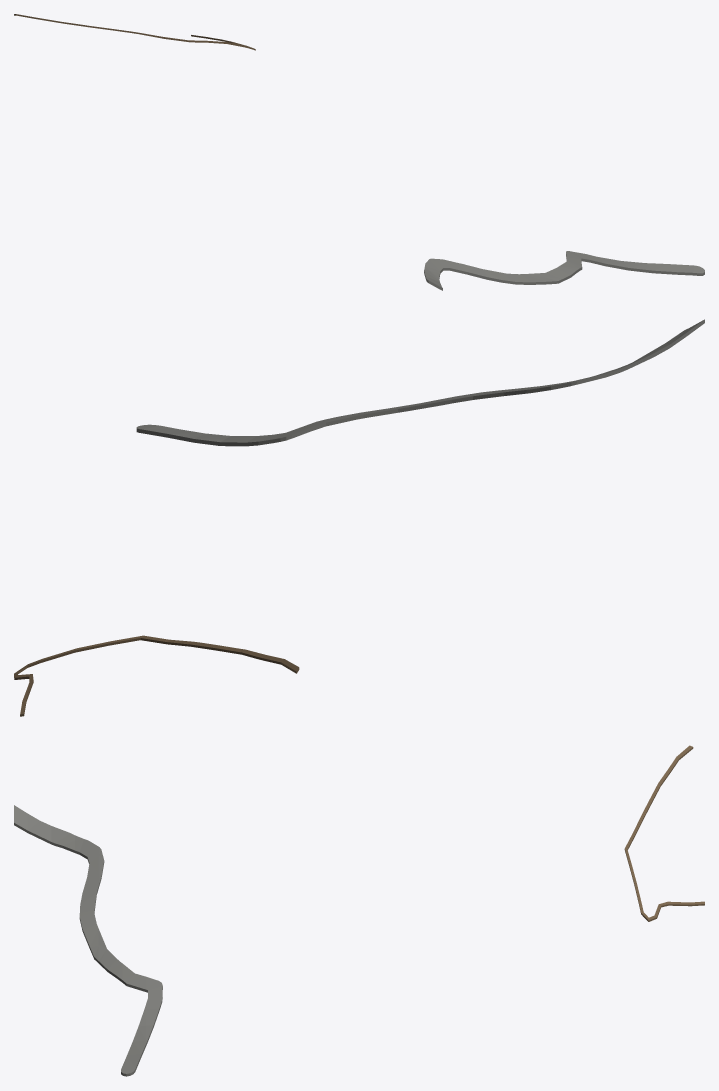
3 renders of one model, top to bottom at view 1: azimuth 30°, elevation 25°; view 2: azimuth 150°, elevation 25°; view 3: azimuth 270°, elevation 25°, orthographic. The views are drawn at different scales.
Bounding box in the file's own units: 190 × 65.73 × 292.
